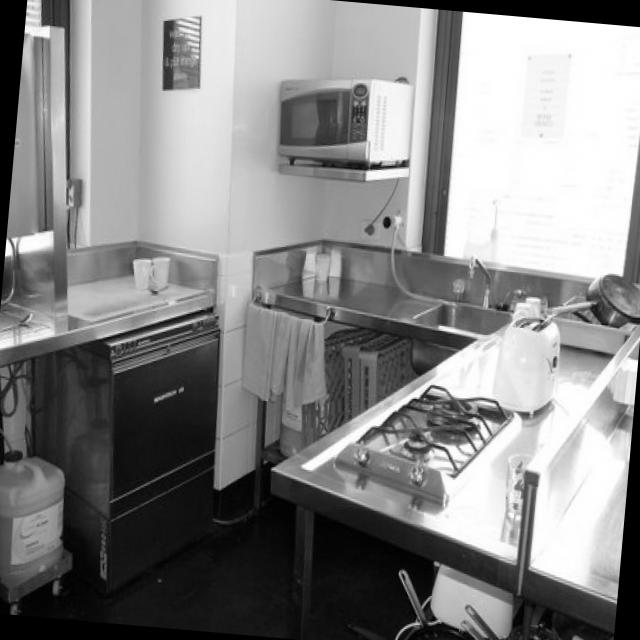burner: (335, 381, 524, 510)
counter bottom: (248, 237, 640, 630), (0, 235, 217, 366)
cup and saucer: (130, 253, 151, 288), (152, 253, 171, 285)
dish washer: (238, 297, 328, 432)
dishwasher: (29, 275, 218, 599)
faucet handle: (466, 251, 498, 312)
microwave oven: (275, 75, 412, 164)
pan: (543, 271, 640, 324)
plug point: (62, 167, 84, 211)
sign: (160, 10, 203, 88)
sink basin: (414, 255, 543, 340)
toaster oven: (486, 311, 562, 417)
